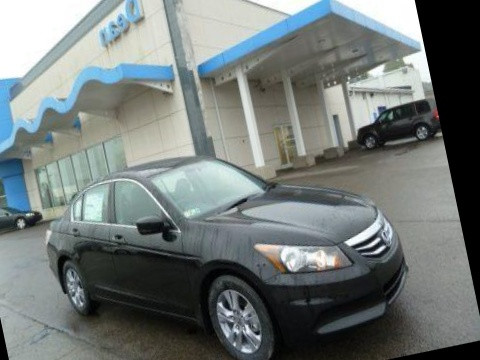car: (24, 113, 429, 360), (346, 83, 444, 161), (0, 178, 48, 258)
